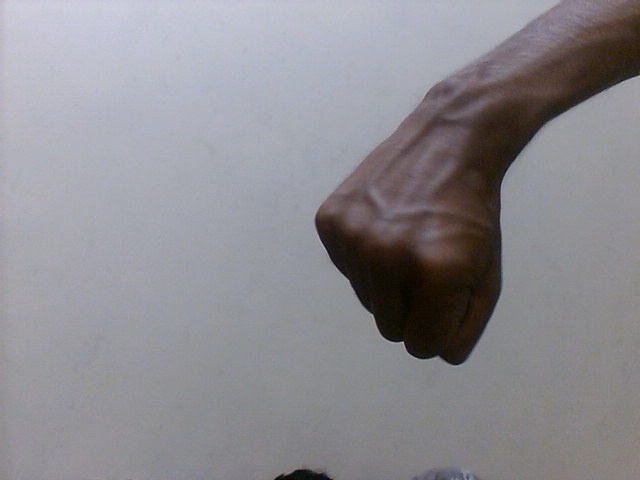hand: (309, 85, 507, 369)
